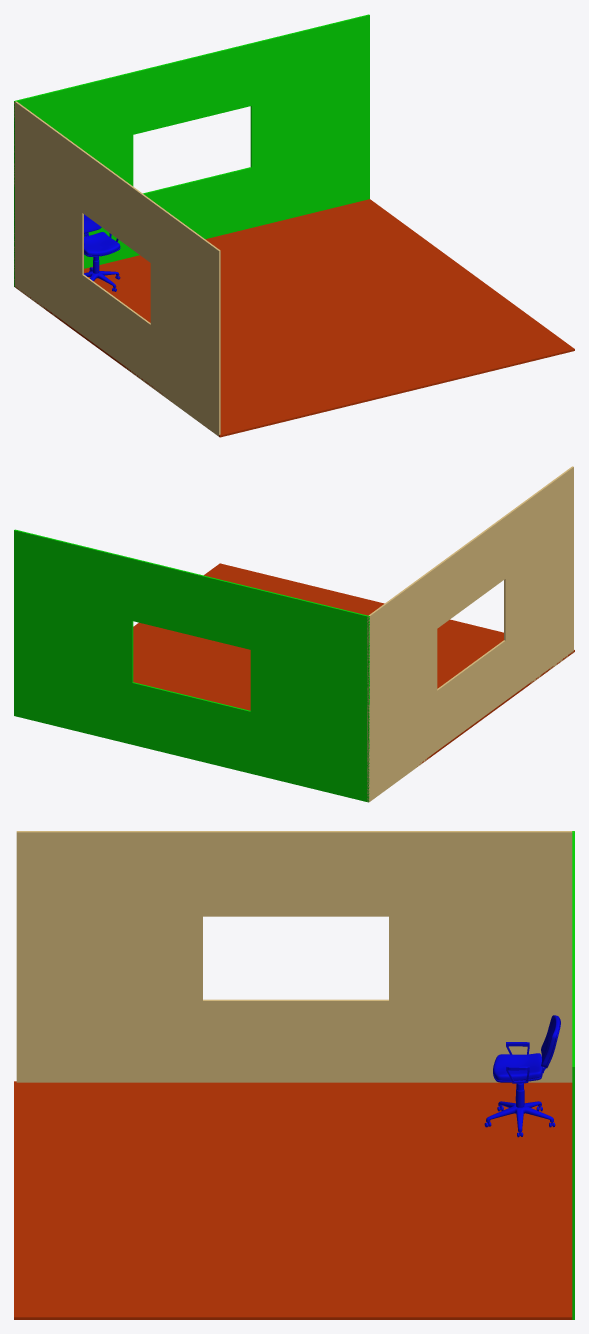
Rendered from room.fbx.
The picture shows the model from 3 angles, top to bottom: view 1: azimuth 30°, elevation 25°; view 2: azimuth 150°, elevation 25°; view 3: azimuth 270°, elevation 25°; orthographic projection. The views are drawn at different scales.
Visible parts, largest first — view 1: chair:Office_chair:Office_chair1; view 2: chair:Office_chair:Office_chair1; view 3: chair:Office_chair:Office_chair1.
Part boxes in pixels (x1,y1,x2,y2): chair:Office_chair:Office_chair1: [14, 14, 574, 437]; chair:Office_chair:Office_chair1: [14, 466, 574, 802]; chair:Office_chair:Office_chair1: [14, 831, 574, 1319].
Size of the model in its own units: 10 by 5 by 10.05.
